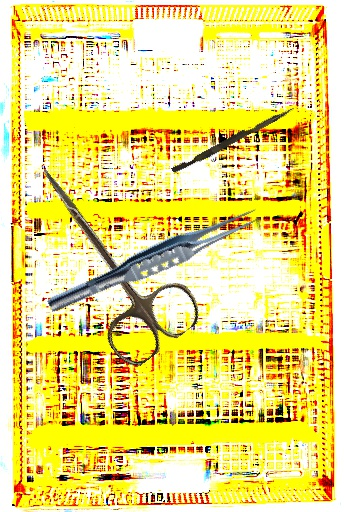Iris Scissors: (1, 143, 209, 374)
Pusher: (171, 102, 295, 177)
Tissue Forceps: (44, 198, 264, 323)
